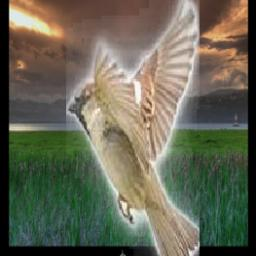Sparrow: (67, 0, 201, 256)
